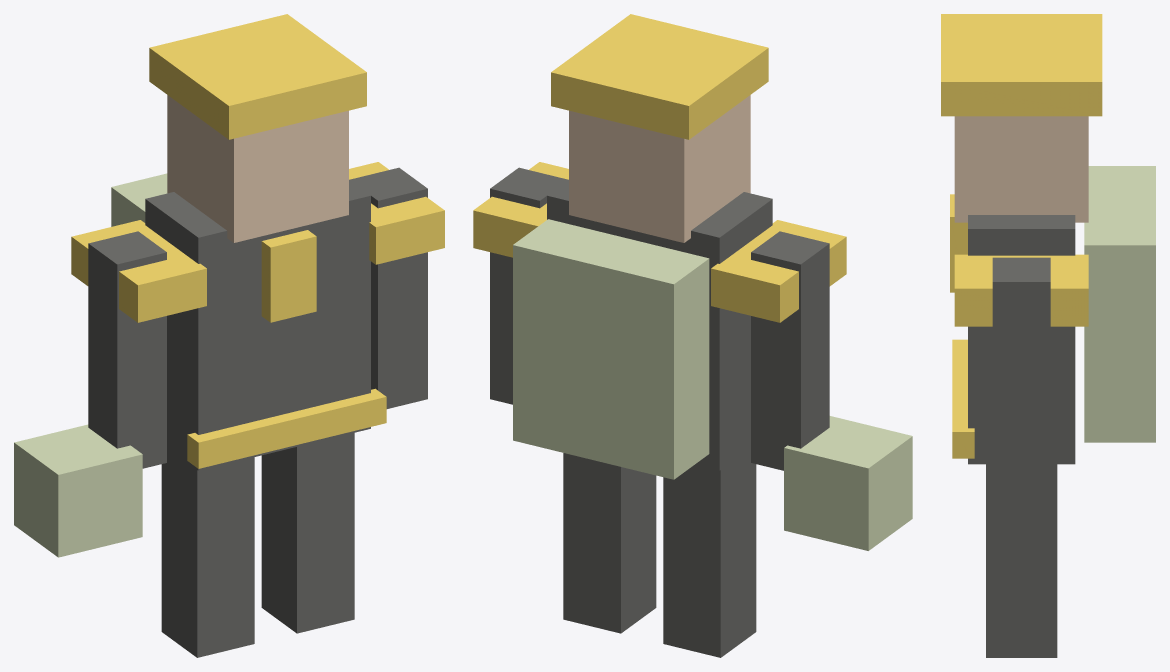
File: 08_thorne_cinderholt_herald_of_outer.glb
The picture shows the model from 3 angles, left to right: view 1: azimuth 30°, elevation 25°; view 2: azimuth 150°, elevation 25°; view 3: azimuth 270°, elevation 25°; orthographic projection.
Visible parts, largest first — view 1: Thorne Cinderholt, Herald of Outer; view 2: Thorne Cinderholt, Herald of Outer; view 3: Thorne Cinderholt, Herald of Outer.
Boxes of the visible parts, x1,y1,x2,y2 form: Thorne Cinderholt, Herald of Outer: (14, 14, 444, 657); Thorne Cinderholt, Herald of Outer: (473, 14, 912, 657); Thorne Cinderholt, Herald of Outer: (941, 14, 1155, 657).
Bounding box in the file's own units: 1.03 × 1.45 × 0.4948.
